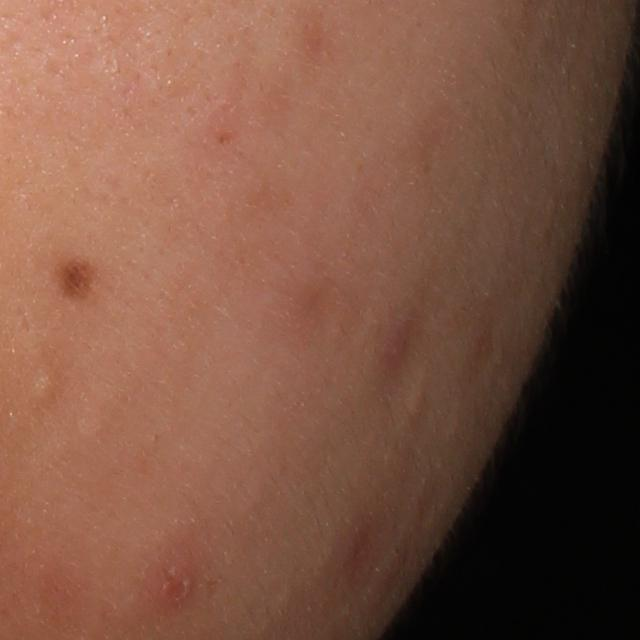comedo: (25, 368, 63, 406), (402, 382, 431, 418)
nevus: (52, 254, 99, 305)
papule: (137, 539, 213, 607)
